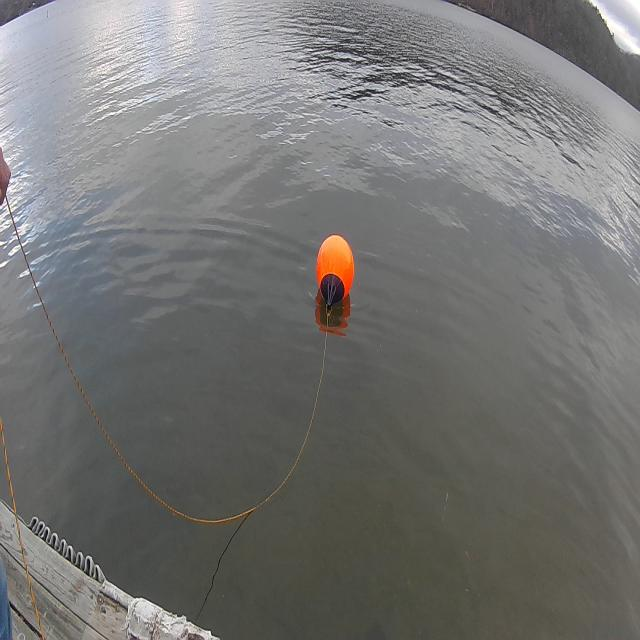Buoy: (312, 227, 358, 319)
